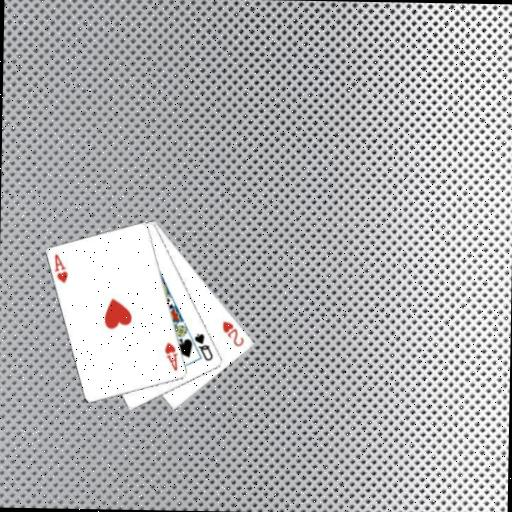2H: (219, 318, 247, 348)
AH: (161, 339, 180, 373), (52, 251, 71, 285)
QS: (191, 331, 215, 363)
